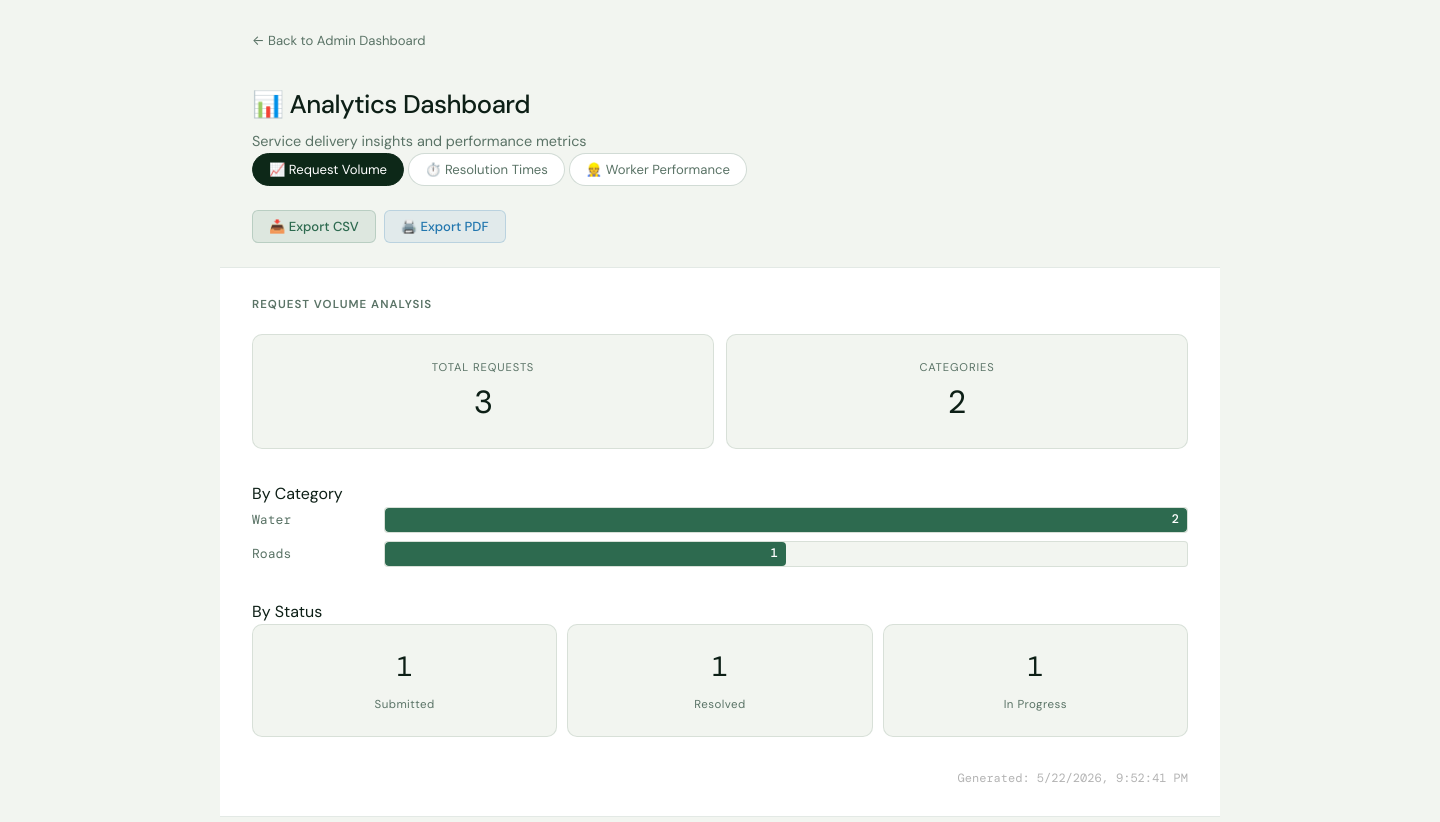
switches to resolution tab
Click the button "⏱️ Resolution Times". click: (486, 169)
box: [408,153,565,186]
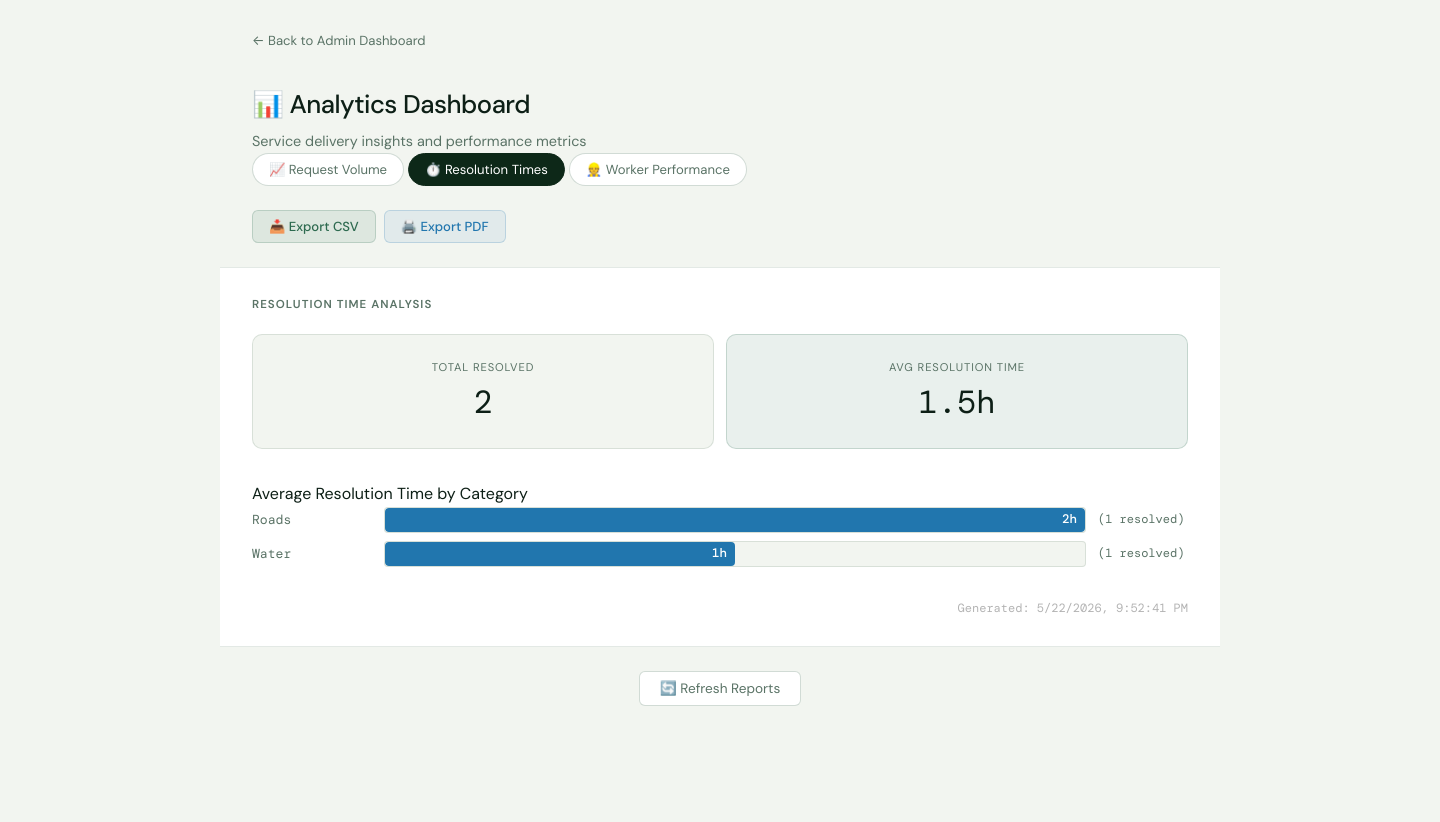
Check: the heading "Resolution Time Analysis" is shown, box [252,297,432,312]
Check: the text "Total Resolved" is shown, box [432,360,534,374]
Check: the text "Avg Resolution Time" is shown, box [889,360,1025,374]
